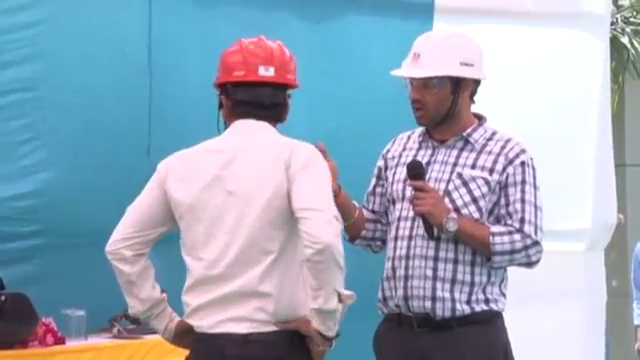helmet: (211, 33, 300, 92), (388, 30, 487, 83)
helmet_on: (386, 30, 488, 134), (211, 34, 299, 134)
person: (103, 34, 349, 360), (360, 31, 549, 360)
